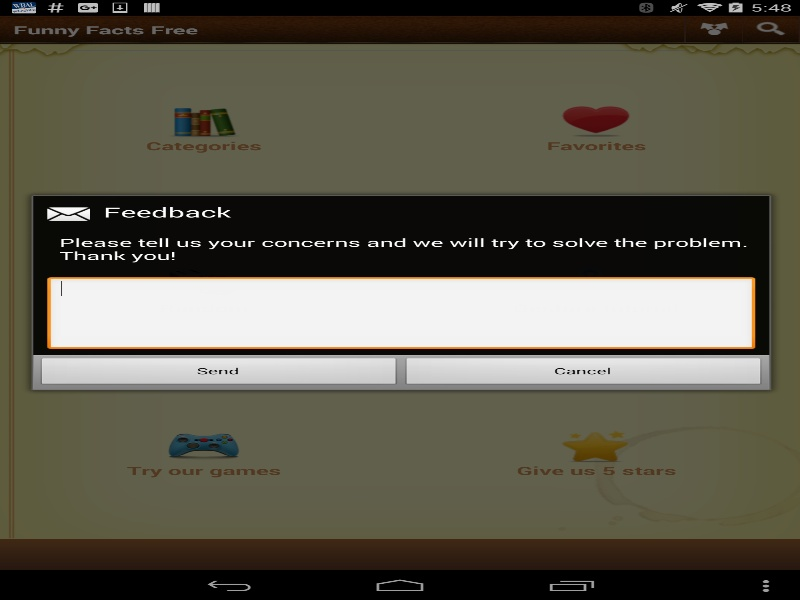Button: (36, 357, 401, 387), (401, 357, 766, 387)
Input: (47, 276, 755, 351)
